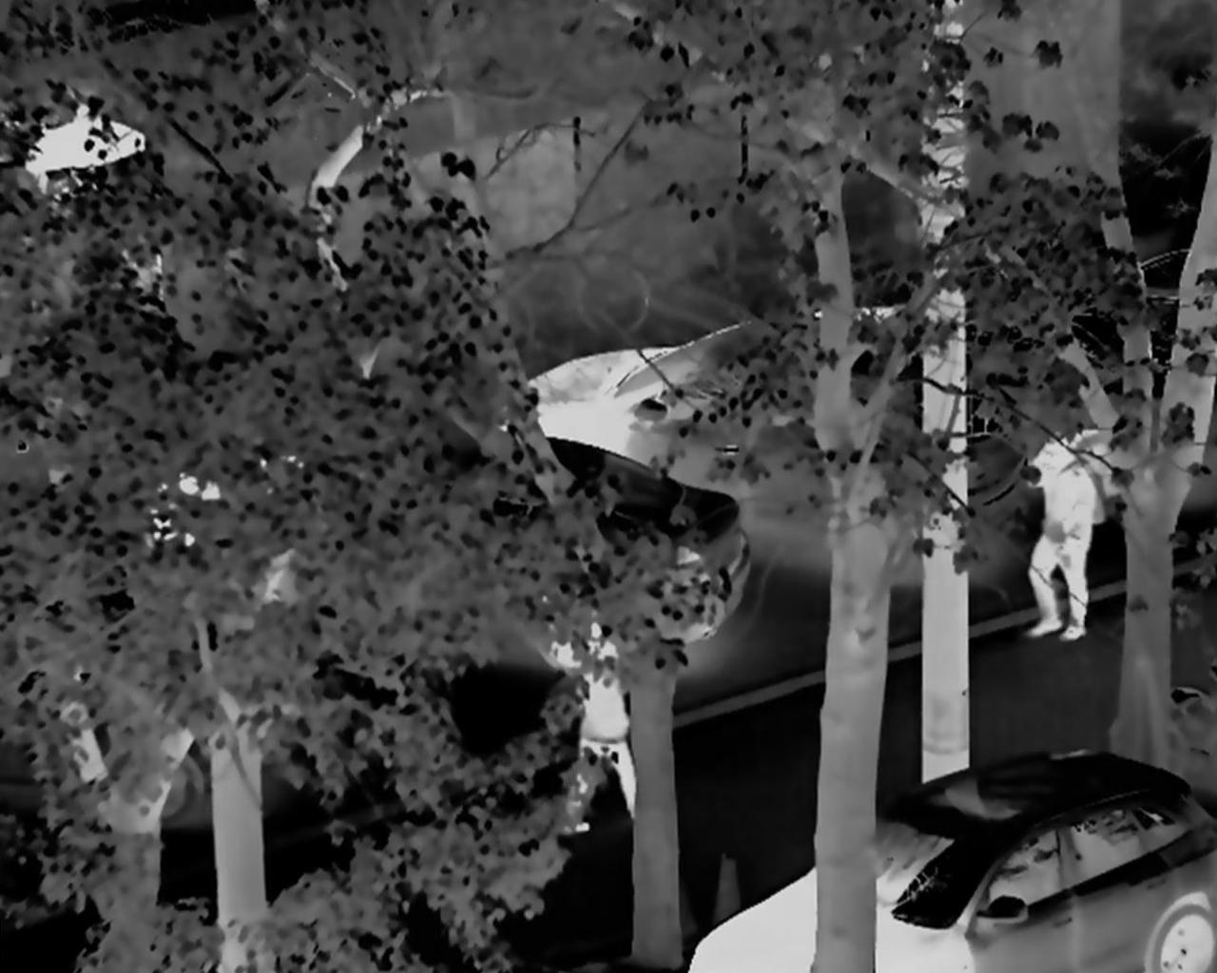person: (1024, 434, 1100, 650), (561, 634, 643, 834)
